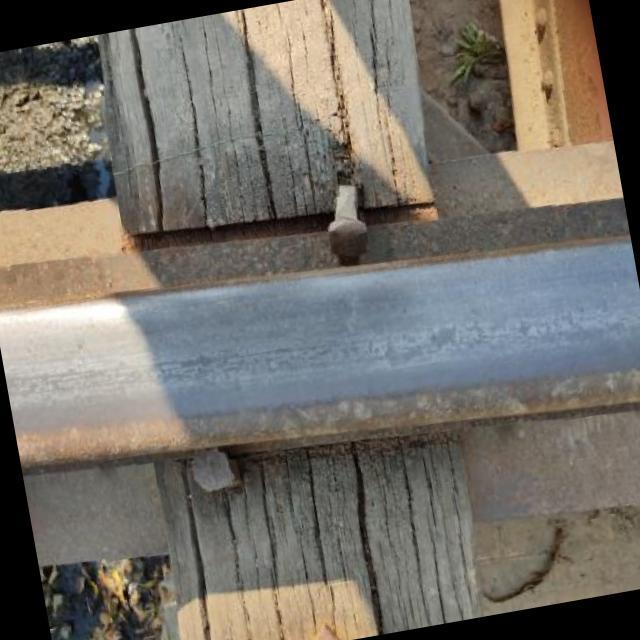non-defective: (0, 143, 640, 573)
